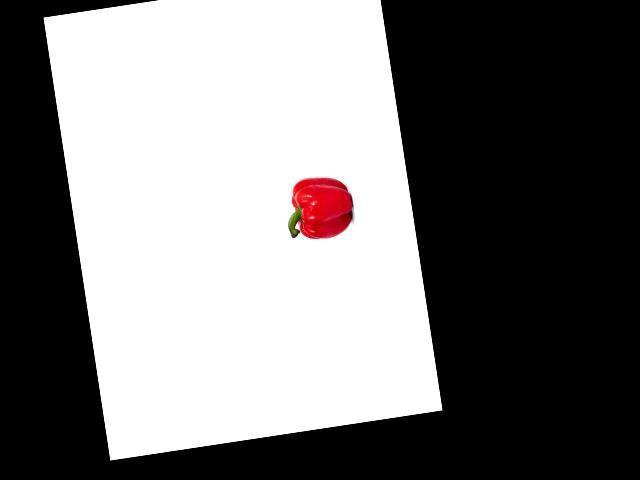bell_pepper: (279, 168, 357, 245)
